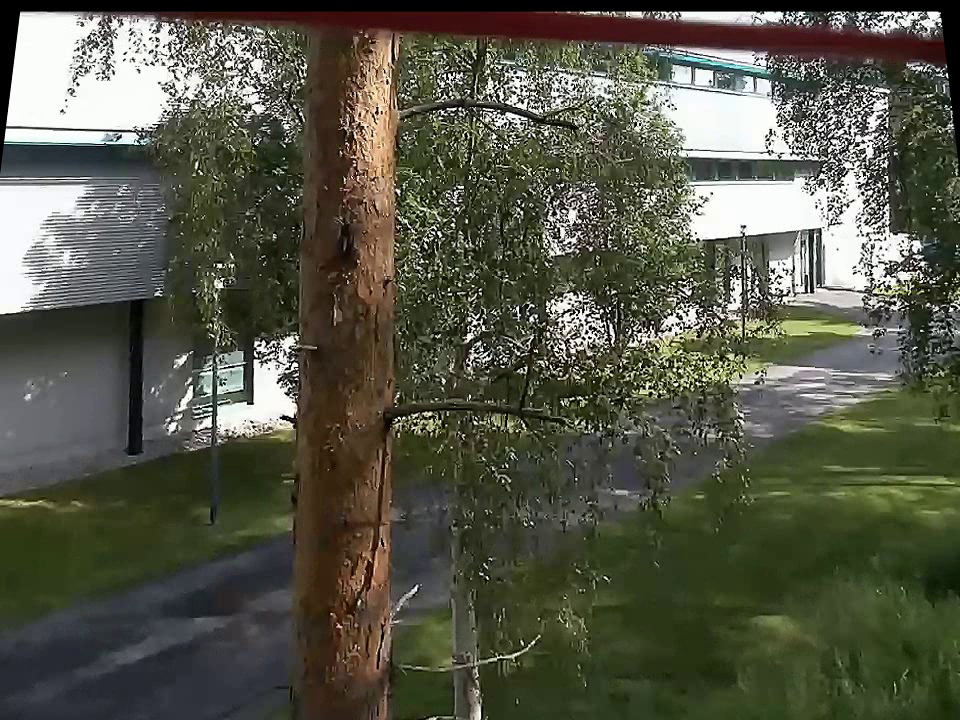branch: (395, 86, 596, 147), (393, 378, 577, 433), (393, 624, 546, 686)
trunk: (278, 38, 396, 716)
